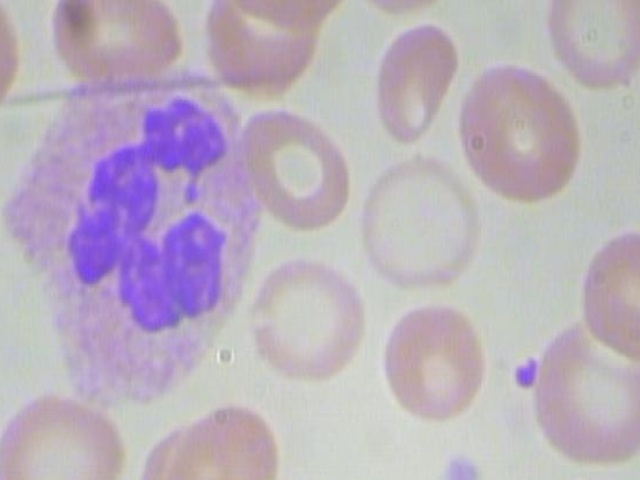Platelets: (510, 353, 549, 394), (436, 449, 487, 480)
RBC: (452, 58, 586, 213), (351, 151, 483, 302), (525, 307, 640, 478), (241, 246, 372, 390), (230, 100, 355, 238), (381, 293, 497, 429), (36, 0, 192, 90), (0, 389, 135, 480), (375, 9, 457, 148), (150, 399, 289, 480), (574, 223, 640, 366), (547, 0, 640, 99), (227, 0, 361, 30), (350, 0, 461, 23)
WBC: (0, 62, 280, 414)
